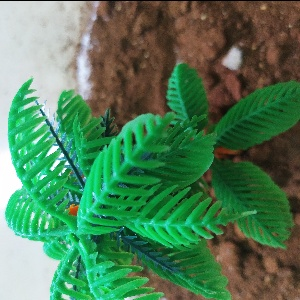plant: (1, 61, 300, 299)
